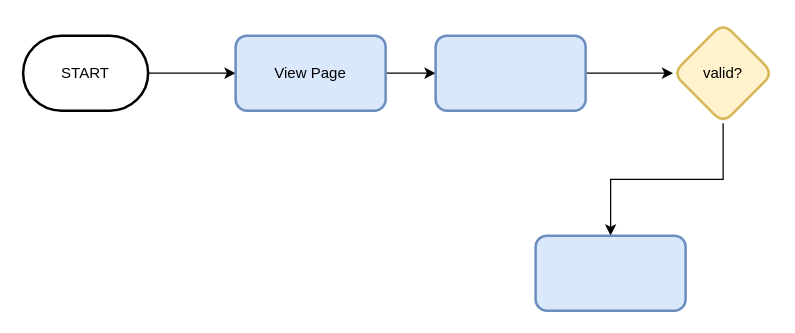
This 795x333 diagram has some shape labels left out. Here are the shapes that lost their labels. From the top down, the box of each, then its label:
(434, 34, 586, 111): Input Hero Name
(534, 234, 686, 311): Filter
